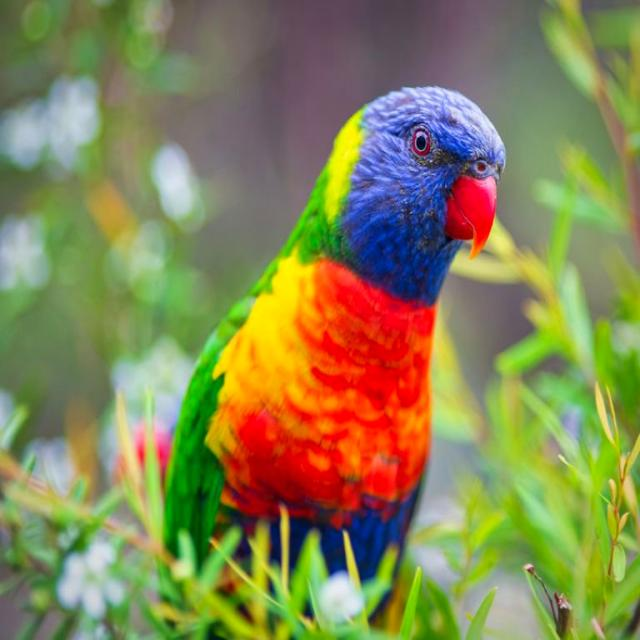parrot: (166, 87, 505, 580)
